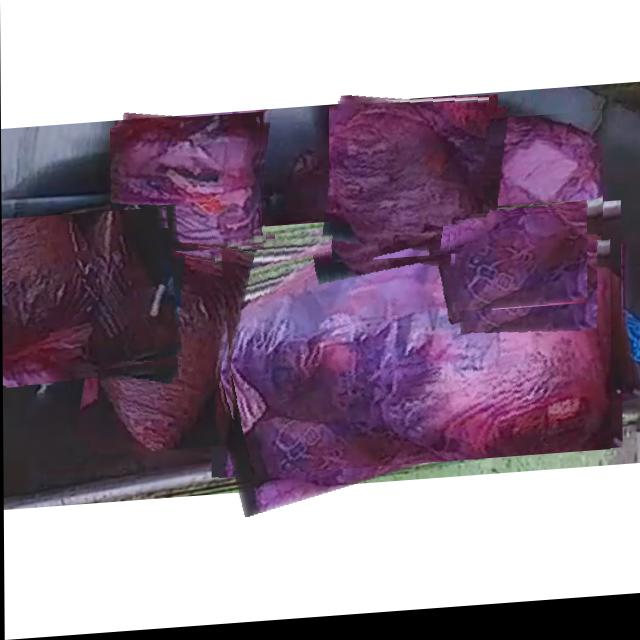other_trashbag: (218, 240, 610, 479), (3, 212, 182, 376), (97, 243, 227, 452), (332, 105, 491, 260), (111, 123, 262, 248), (454, 218, 587, 317), (492, 126, 602, 238)
